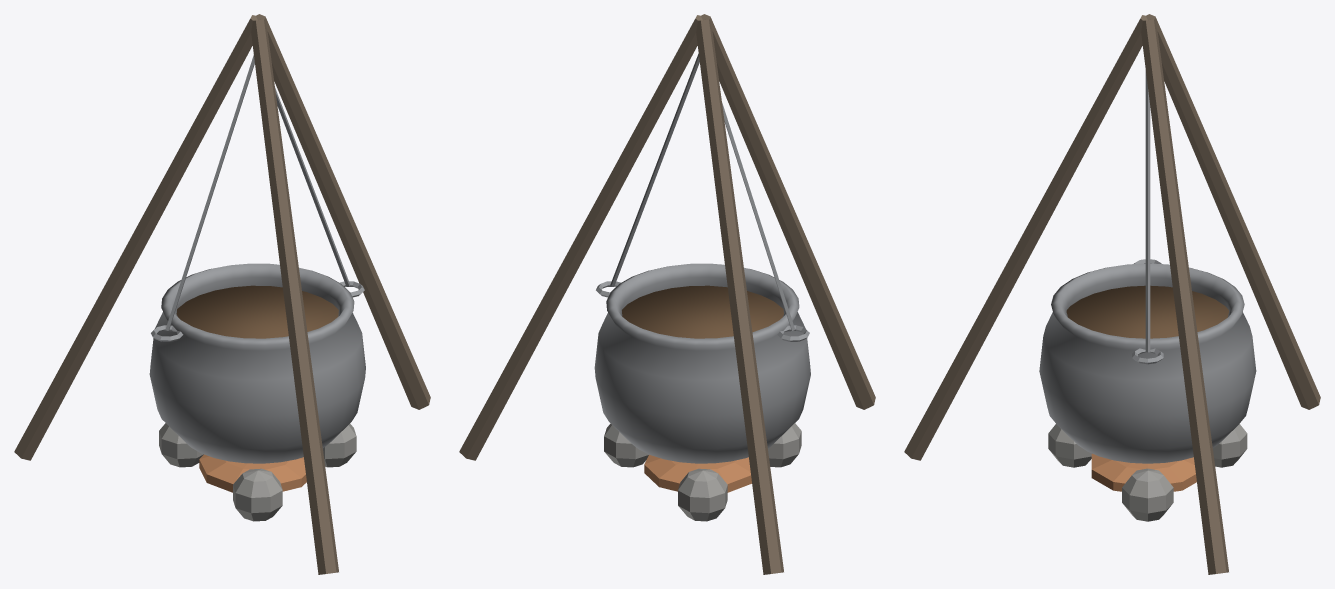
File: Cauldron.fbx
3 renders of one model, left to right at view 1: azimuth 30°, elevation 25°; view 2: azimuth 150°, elevation 25°; view 3: azimuth 270°, elevation 25°, orthographic.
Visible parts, largest first — view 1: Cauldron; view 2: Cauldron; view 3: Cauldron.
Part boxes in pixels (left/top/right/bottom): Cauldron: left=14, top=14, right=430, bottom=574; Cauldron: left=459, top=14, right=875, bottom=574; Cauldron: left=904, top=14, right=1320, bottom=574.
Bounding box in the file's own units: 110 × 133 × 108.
